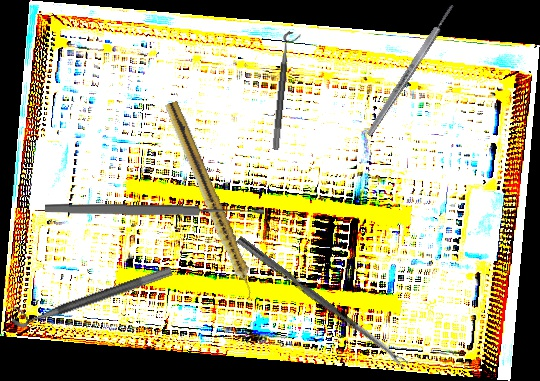Fixation Ring: (7, 253, 174, 331), (271, 30, 302, 152)
Handpiece: (160, 100, 260, 301)
Scalpel Handle: (364, 2, 457, 138)
Surgical Spoon: (235, 235, 409, 370), (44, 202, 265, 219)
